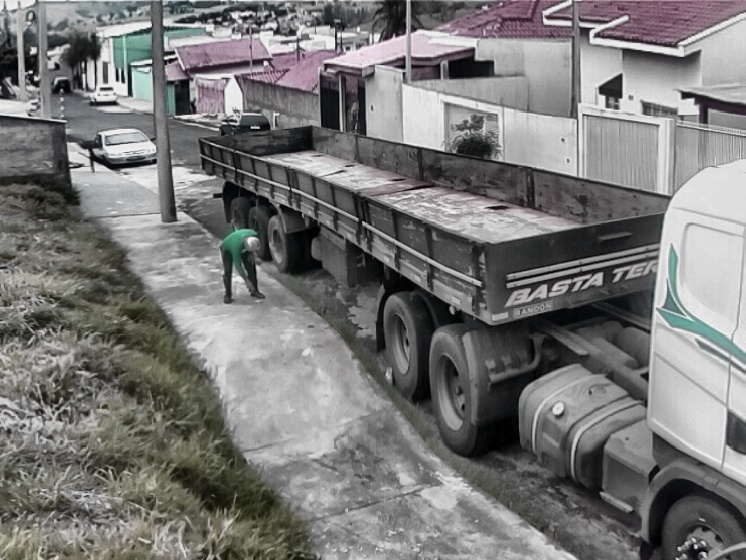person: (215, 222, 268, 304)
